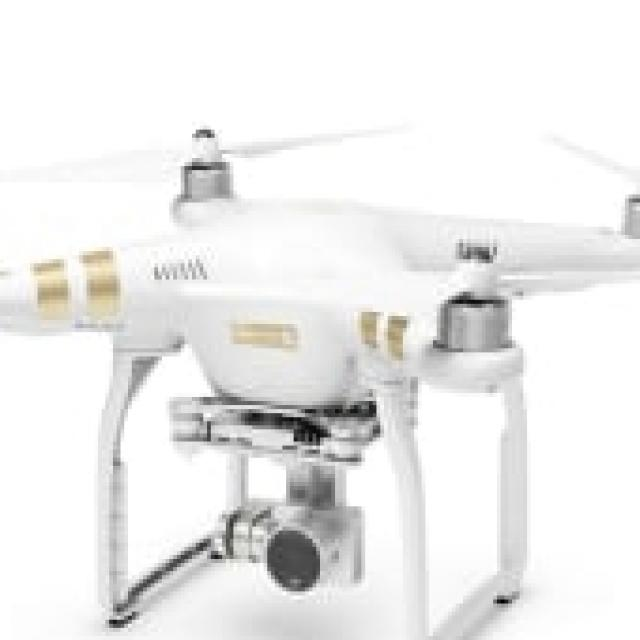drone: (0, 93, 640, 466)
